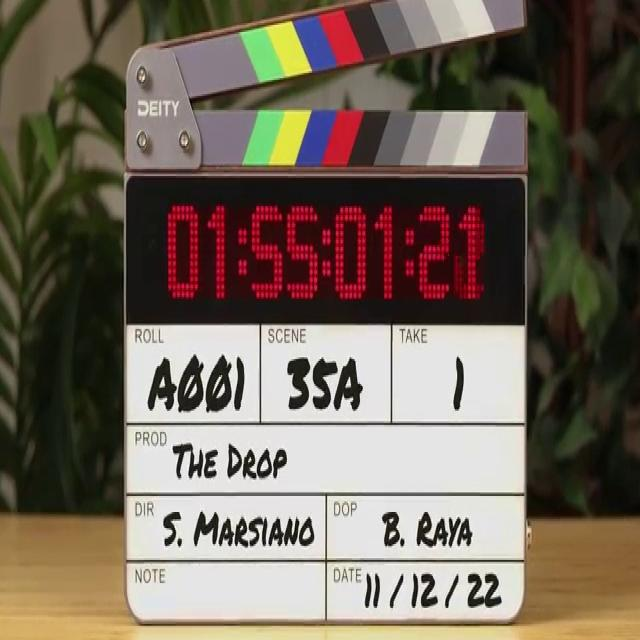Clapperboard: (123, 0, 531, 629)
